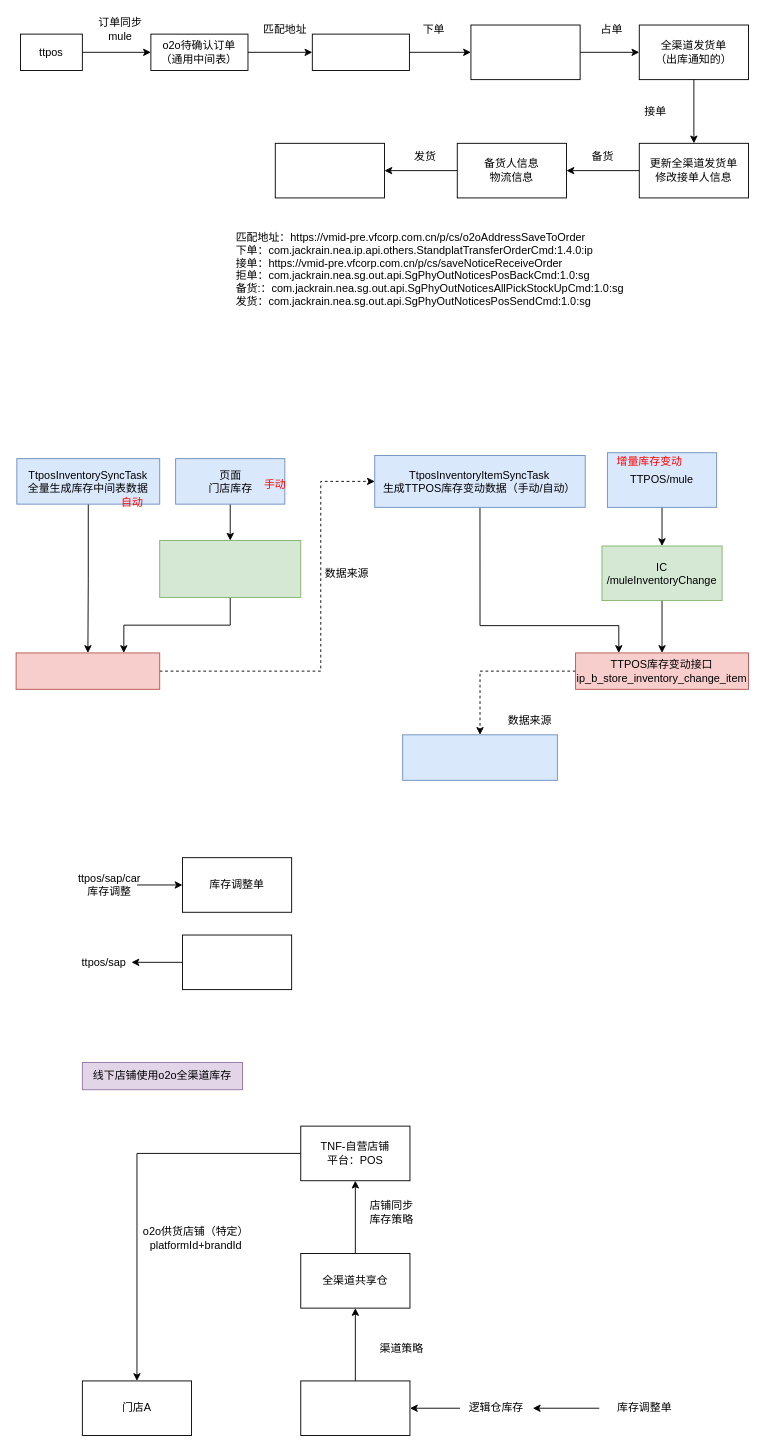
This 764x1451 diagram has some shape labels left out. The centre of each missing label's shape, as x and y in pixels:
GenerateInventorySyncTask 转换生成盘点单定时任务: the point at 479,757
inventory_of_mule_data 待同步中间表数据: the point at 87,670
IP /saveStoreInventoryChange: the point at 230,568
全渠道订单 （订单管理）: the point at 525,52
出库结果单 通知门店已发货 mq通知仓库发货 OutOrderMqProcessorImpl: the point at 329,170
已匹配地址订单: the point at 360,52
库存调拨: the point at 237,962
门店B/逻辑仓: the point at 355,1408
